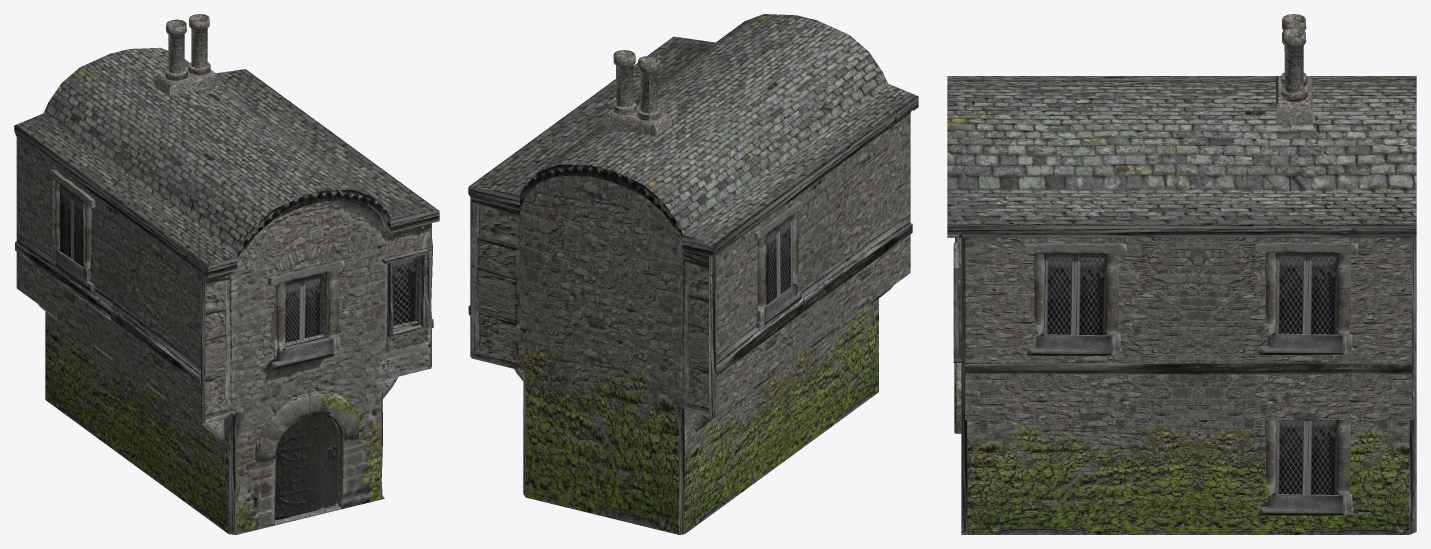
File: medhouse16.fbx
3 views of the same model, side by side, from view 1: azimuth 30°, elevation 25°; view 2: azimuth 150°, elevation 25°; view 3: azimuth 270°, elevation 25° (orthographic). The views are drawn at different scales.
Visible parts, largest first — view 1: medhouse16; view 2: medhouse16; view 3: medhouse16.
Part boxes in pixels (x1,y1,x2,y2): medhouse16: (14, 14, 439, 534); medhouse16: (468, 14, 918, 534); medhouse16: (947, 14, 1416, 534).
Bounding box in the file's own units: 613 × 964 × 864.
